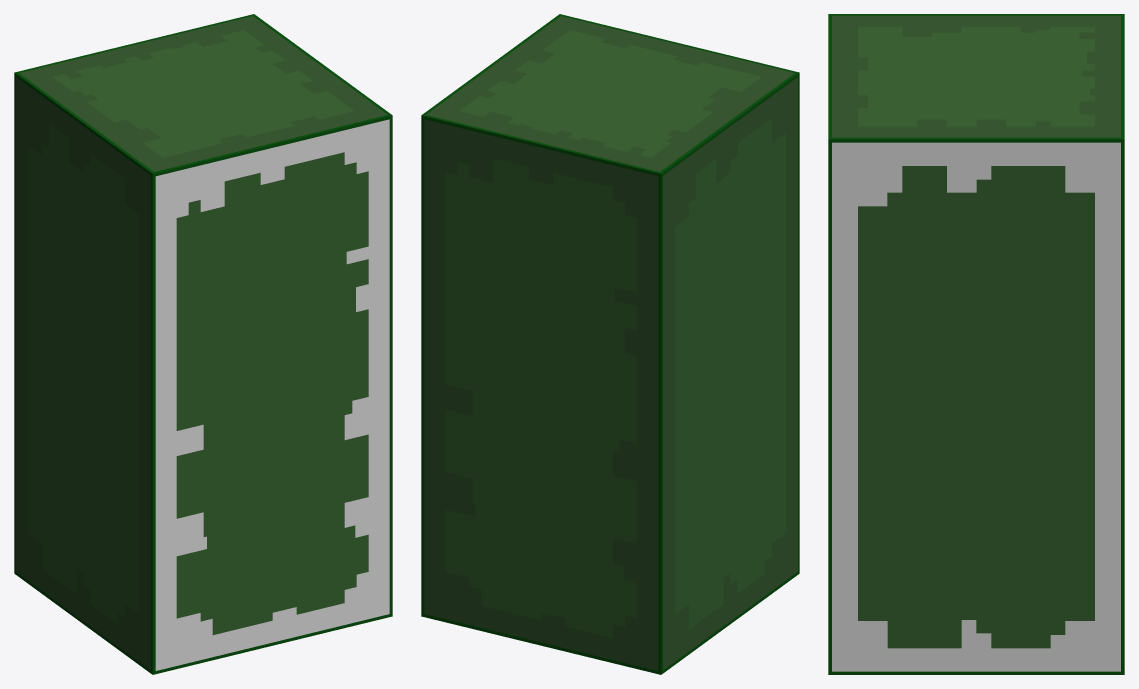
The model's file is FrogSkin.fbx.
3 renders of one model, left to right at view 1: azimuth 30°, elevation 25°; view 2: azimuth 150°, elevation 25°; view 3: azimuth 270°, elevation 25°, orthographic. The views are drawn at different scales.
Visible parts, largest first — view 1: 1.BODY; view 2: 1.BODY; view 3: 1.BODY.
Part boxes in pixels (x1,y1,x2,y2): 1.BODY: (14,14,392,674); 1.BODY: (421,14,799,674); 1.BODY: (828,14,1124,674).
Size of the model in its own units: 101 by 201 by 101.
